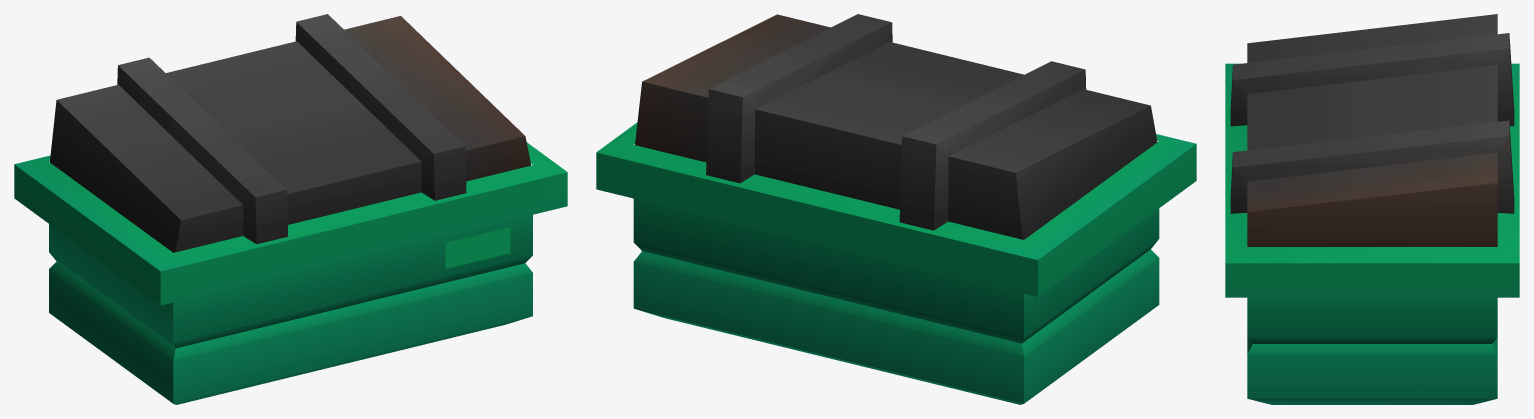
Rendered from kkcity.dumpster.glb.
3 renders of one model, left to right at view 1: azimuth 30°, elevation 25°; view 2: azimuth 150°, elevation 25°; view 3: azimuth 270°, elevation 25°, orthographic. The views are drawn at different scales.
Parts seen in each view (by area): view 1: dumpster; view 2: dumpster; view 3: dumpster.
Part boxes in pixels (<box>): dumpster: <box>14,14,567,404</box>; dumpster: <box>596,14,1196,404</box>; dumpster: <box>1225,14,1519,404</box>.
Size of the model in its own units: 2.72 by 1.52 by 1.69.
1 material, 1 textured.
